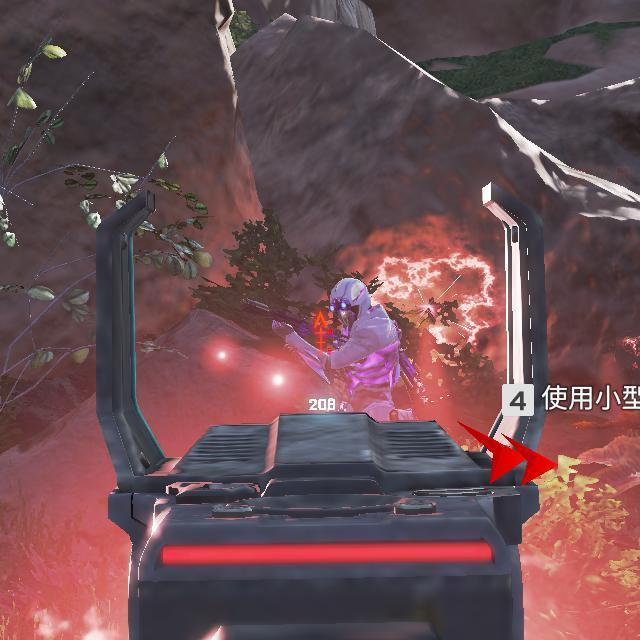avatar: (324, 275, 404, 423)
